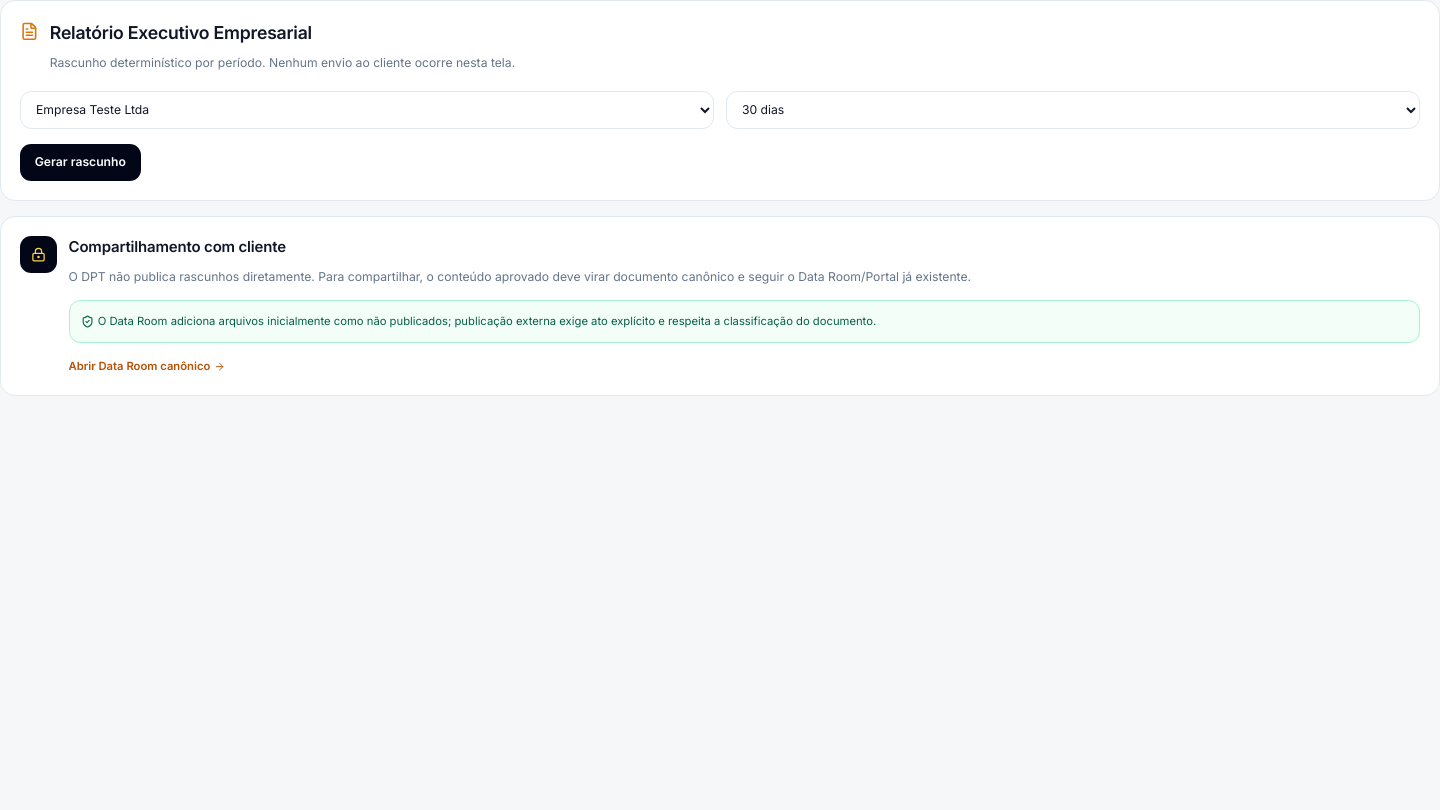
Scenario: DptReports — aviso de cobertura parcial › mostra aviso e as notas quando a cobertura está parcial
This screenshot has width=1440, height=810.
Step 1. Click the button "Gerar rascunho" → (80, 163), box [20,144,141,181]
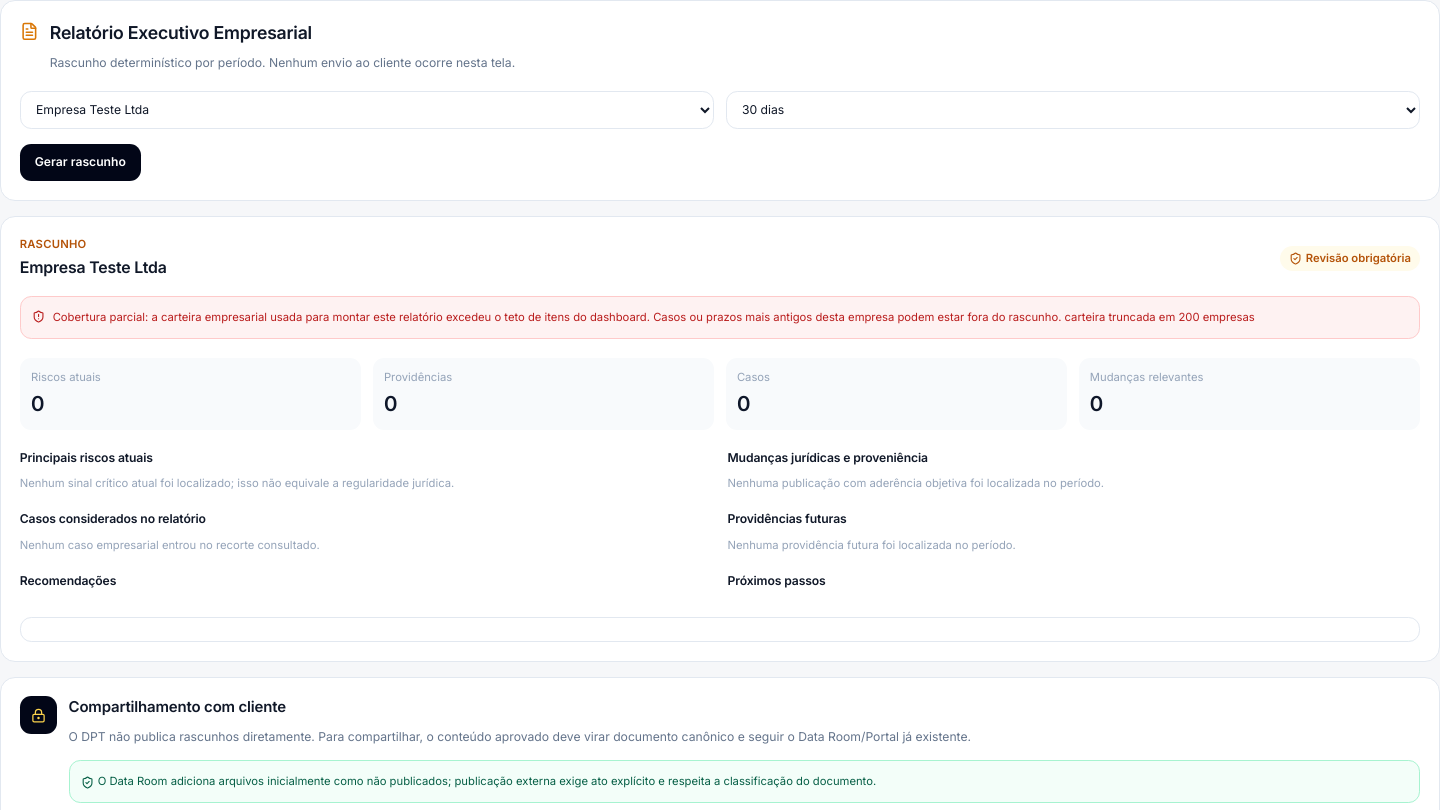
Result: the text "Cobertura parcial" is shown at [53,310,1061,324]
Result: the text "carteira truncada em 200 empresas" is shown at [1061,310,1255,324]
